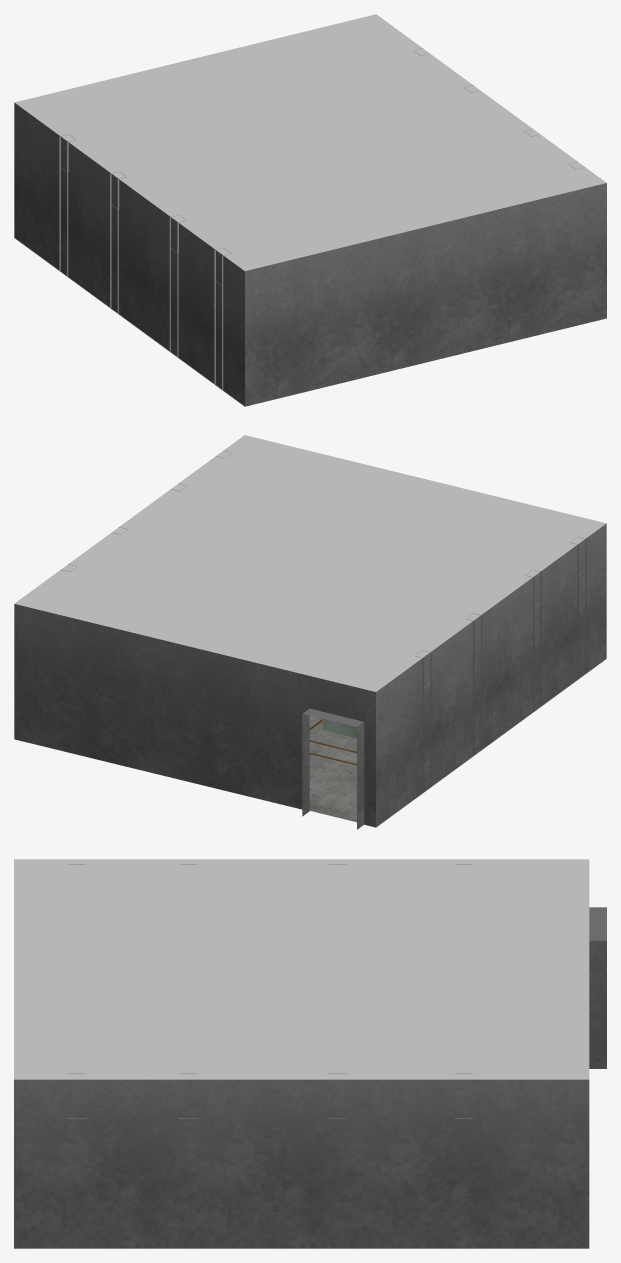
Rendered from BDZ_UP.obj.
The picture shows the model from 3 angles, top to bottom: view 1: azimuth 30°, elevation 25°; view 2: azimuth 150°, elevation 25°; view 3: azimuth 270°, elevation 25°; orthographic projection. The views are drawn at different scales.
Visible parts, largest first — view 1: pPlane17; view 2: pPlane17; view 3: pPlane17.
Boxes of the visible parts, x1=… form: pPlane17: x1=14, y1=14, x2=606, y2=406; pPlane17: x1=14, y1=435, x2=606, y2=829; pPlane17: x1=14, y1=859, x2=606, y2=1248.
Size of the model in its own units: 14.58 by 5.2 by 16.5.
